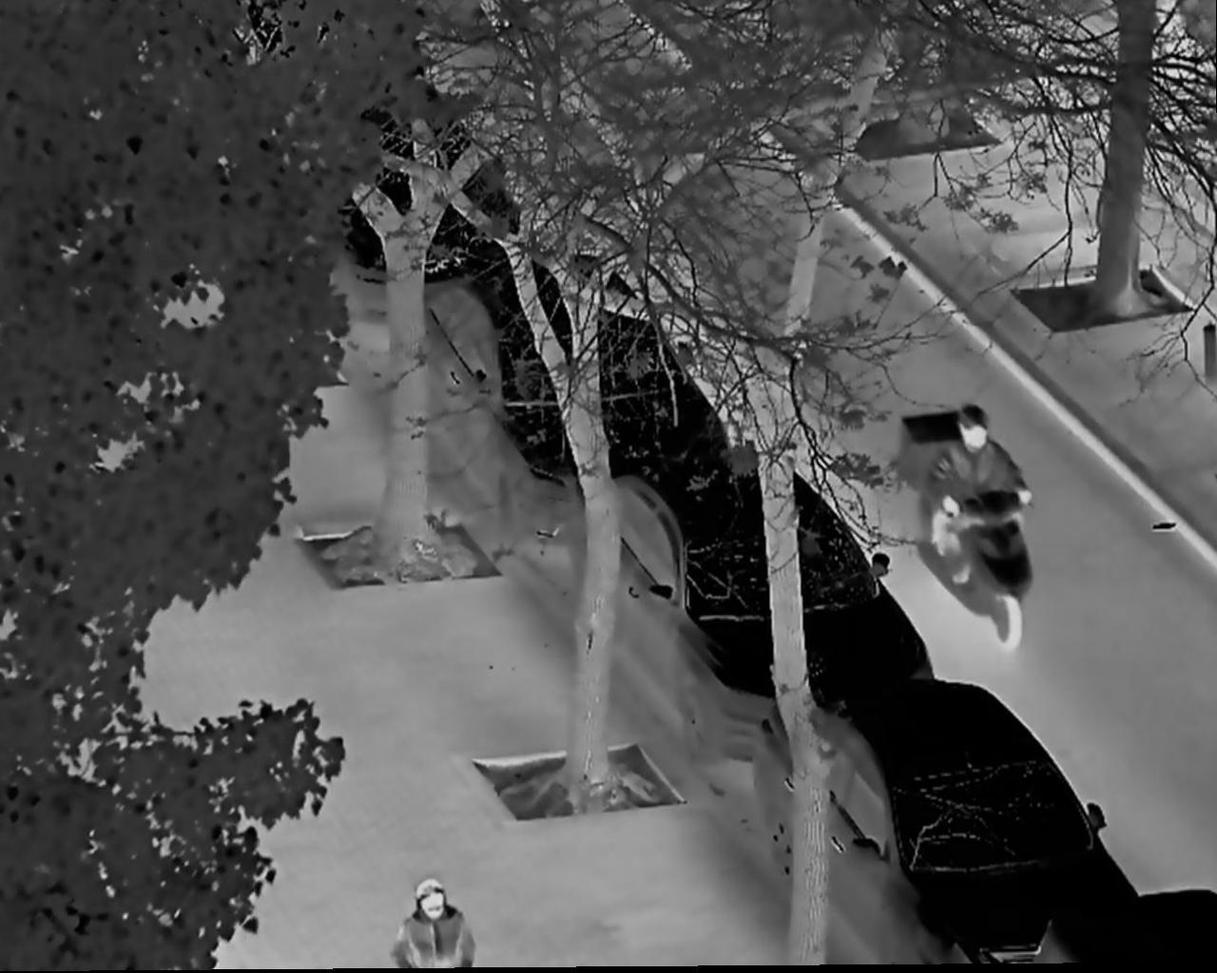person: (927, 401, 1037, 590), (391, 880, 473, 973)
